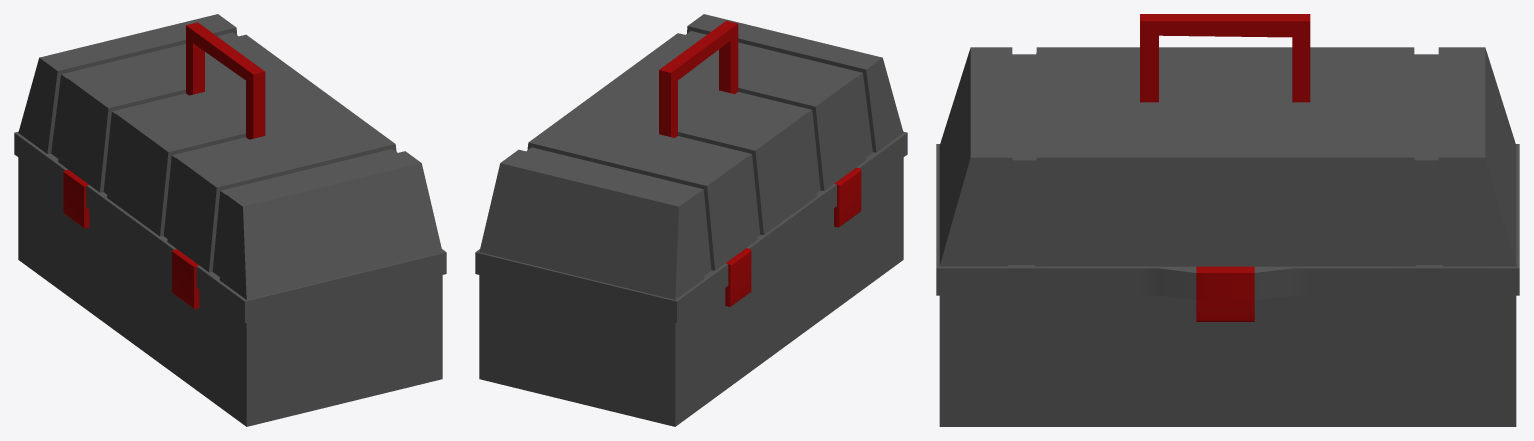
The model's file is toolbox.fbx.
3 renders of one model, left to right at view 1: azimuth 30°, elevation 25°; view 2: azimuth 150°, elevation 25°; view 3: azimuth 270°, elevation 25°, orthographic. The views are drawn at different scales.
Visible parts, largest first — view 1: pCube1; view 2: pCube1; view 3: pCube1.
Part boxes in pixels (<box>): pCube1: <box>14,14,446,426</box>; pCube1: <box>475,14,907,426</box>; pCube1: <box>936,14,1519,426</box>.
Size of the model in its own units: 1.12 by 1.38 by 2.11.
